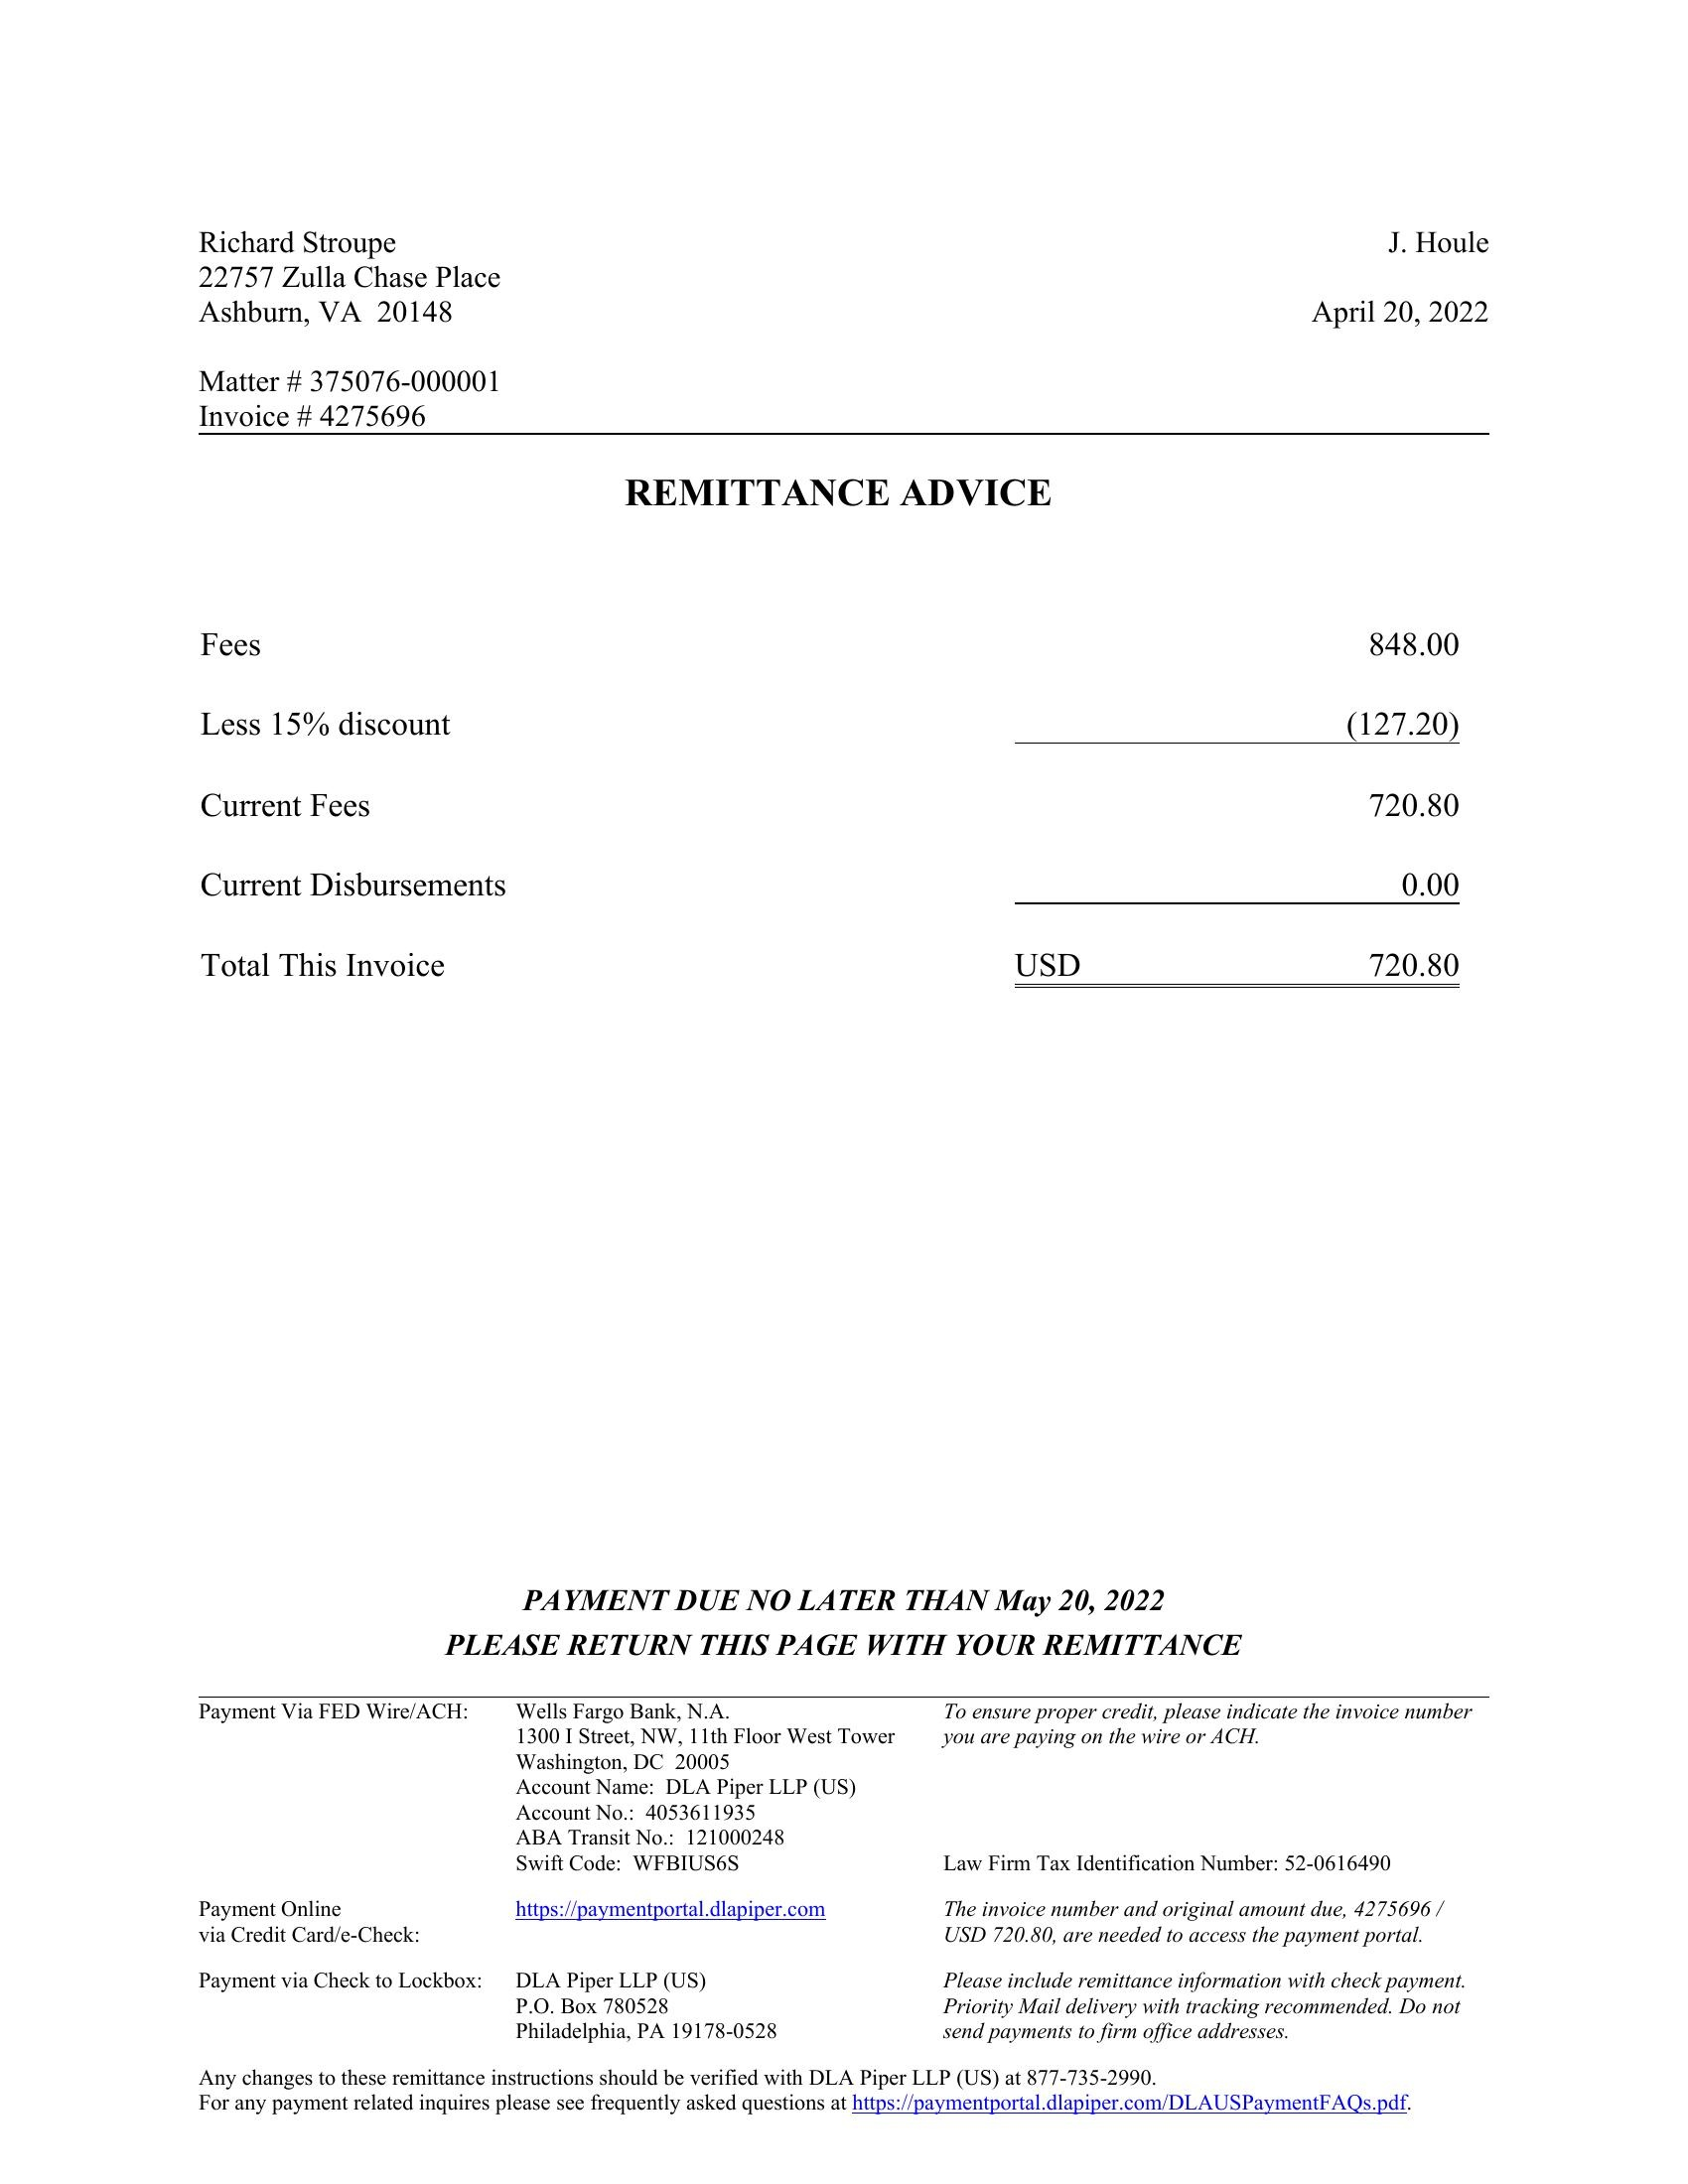0 table: (115, 581, 1484, 1014)
